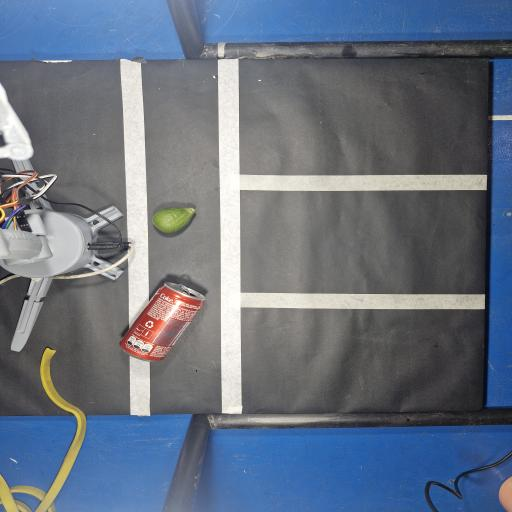higo: (152, 207, 195, 233)
lata: (120, 283, 204, 361)
